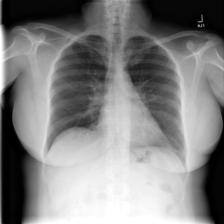normal: (36, 24, 192, 191)
